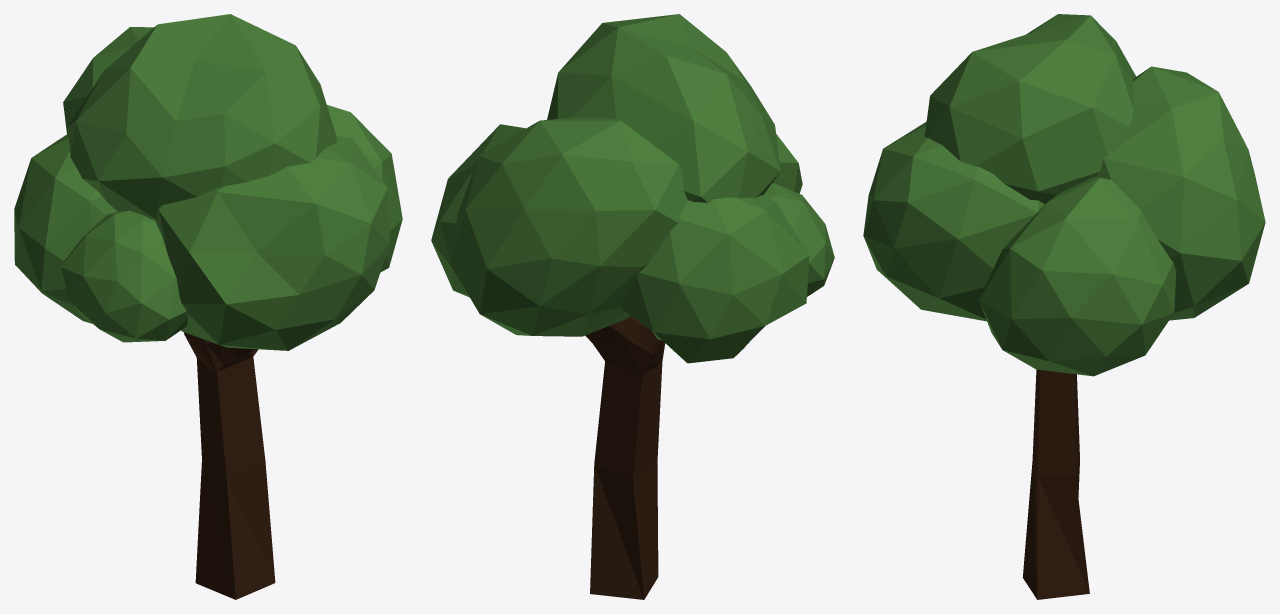
Rendered from Tree3_fract.FBX.
3 views of the same model, side by side, from view 1: azimuth 30°, elevation 25°; view 2: azimuth 150°, elevation 25°; view 3: azimuth 270°, elevation 25° (orthographic). The views are drawn at different scales.
Parts seen in each view (by area): view 1: OakTree3_Part_1, OakTree3_Part_9, OakTree3_Part_8, OakTree3_Part_7, OakTree3_Part_10, OakTree3_Part_3, OakTree3_Part_4, OakTree3_Part_2; view 2: OakTree3_Part_5, OakTree3_Part_2, OakTree3_Part_8, OakTree3_Part_7, OakTree3_Part_3, OakTree3_Part_10, OakTree3_Part_4; view 3: OakTree3_Part_7, OakTree3_Part_4, OakTree3_Part_5, OakTree3_Part_3, OakTree3_Part_2, OakTree3_Part_1.
Boxes of the visible parts, <box> form: OakTree3_Part_1: <box>224,72,387,284</box>; OakTree3_Part_9: <box>108,201,335,350</box>; OakTree3_Part_8: <box>14,75,135,333</box>; OakTree3_Part_7: <box>189,237,397,599</box>; OakTree3_Part_10: <box>115,63,229,307</box>; OakTree3_Part_3: <box>133,14,321,170</box>; OakTree3_Part_4: <box>302,105,402,343</box>; OakTree3_Part_2: <box>55,23,164,142</box>; OakTree3_Part_5: <box>449,149,743,363</box>; OakTree3_Part_2: <box>490,53,725,262</box>; OakTree3_Part_8: <box>690,90,834,347</box>; OakTree3_Part_7: <box>431,150,665,599</box>; OakTree3_Part_3: <box>554,14,751,90</box>; OakTree3_Part_10: <box>720,71,824,223</box>; OakTree3_Part_4: <box>473,124,525,152</box>; OakTree3_Part_7: <box>993,207,1188,599</box>; OakTree3_Part_4: <box>863,171,1121,337</box>; OakTree3_Part_5: <box>1119,125,1265,320</box>; OakTree3_Part_3: <box>959,14,1100,182</box>; OakTree3_Part_2: <box>1069,14,1235,200</box>; OakTree3_Part_1: <box>864,66,1025,227</box>.
Size of the model in its own units: 1382 by 2132 by 1423.
